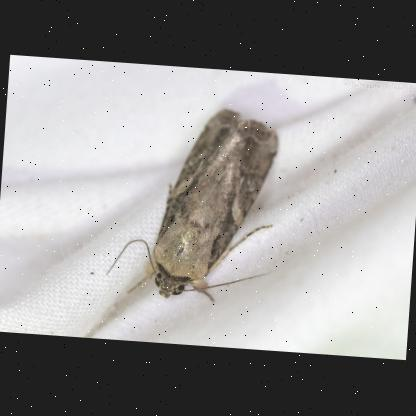Fall Armyworm Moth: (101, 98, 285, 310)
